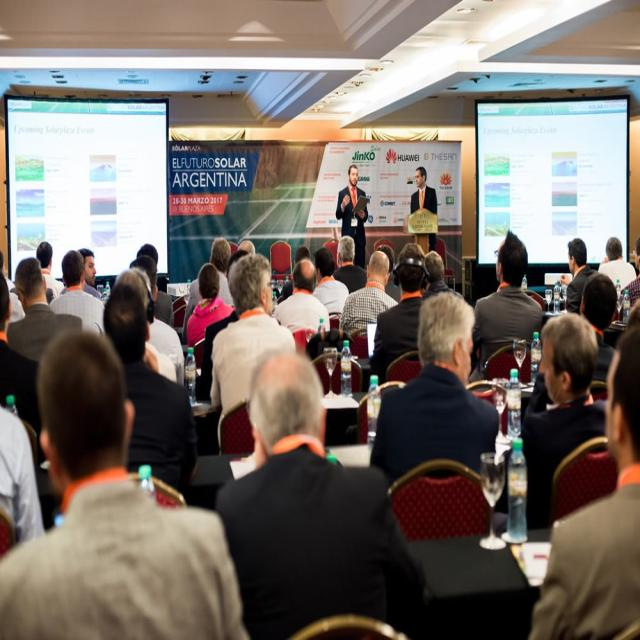body: (0, 319, 248, 639), (213, 348, 440, 640), (368, 289, 500, 487), (520, 313, 610, 542), (102, 282, 198, 490), (517, 311, 606, 530), (208, 250, 300, 445), (472, 228, 544, 375), (368, 240, 431, 395), (0, 243, 41, 452), (7, 257, 83, 364), (180, 235, 235, 346), (336, 249, 401, 338), (578, 272, 620, 385), (274, 258, 332, 334), (185, 262, 235, 348), (134, 242, 175, 332), (202, 309, 240, 406), (335, 163, 369, 270), (558, 237, 600, 314), (614, 231, 640, 332), (409, 165, 438, 253), (420, 249, 466, 304), (311, 246, 349, 312), (58, 246, 102, 301), (27, 238, 65, 301), (596, 236, 638, 292), (59, 247, 102, 300), (332, 235, 368, 295), (128, 249, 162, 302), (224, 225, 258, 277), (375, 244, 401, 303), (292, 242, 310, 270), (278, 278, 295, 302)
